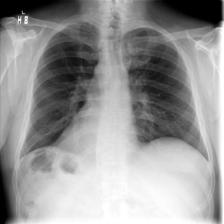normal: (18, 18, 219, 216)
